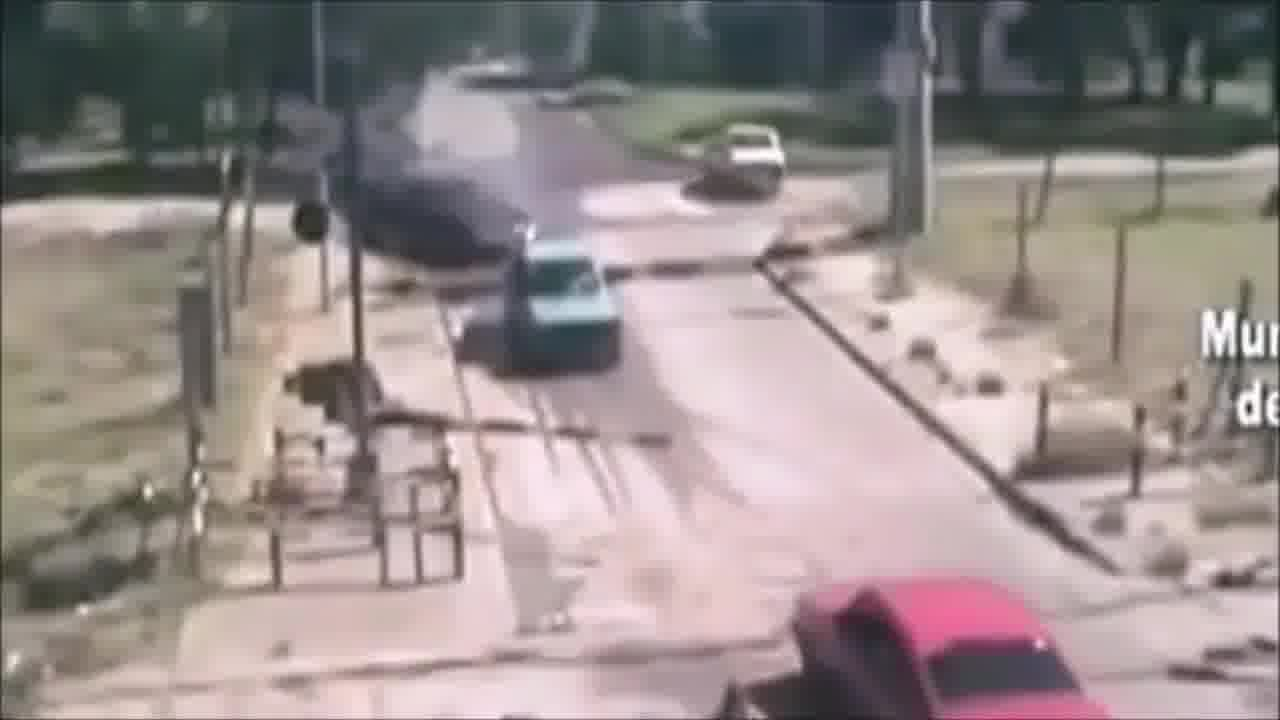crossing railway track: (768, 502, 1144, 720), (640, 577, 793, 720)
